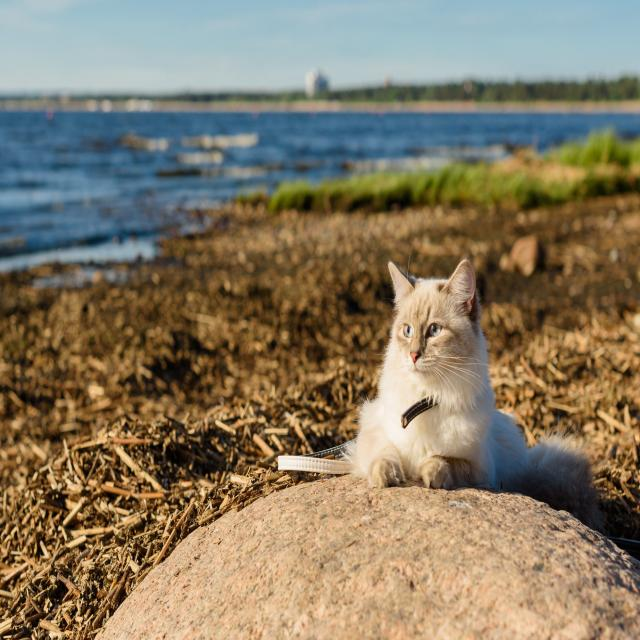Neva Masquerade: (349, 254, 594, 492)
